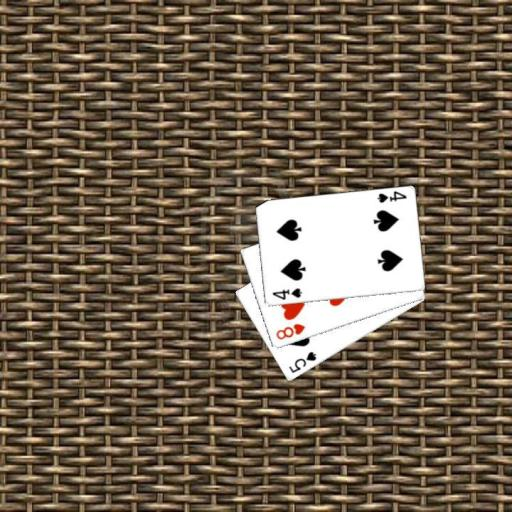4S: (269, 285, 303, 302), (374, 189, 408, 204)
5S: (286, 348, 318, 375)
8H: (273, 321, 307, 341)
